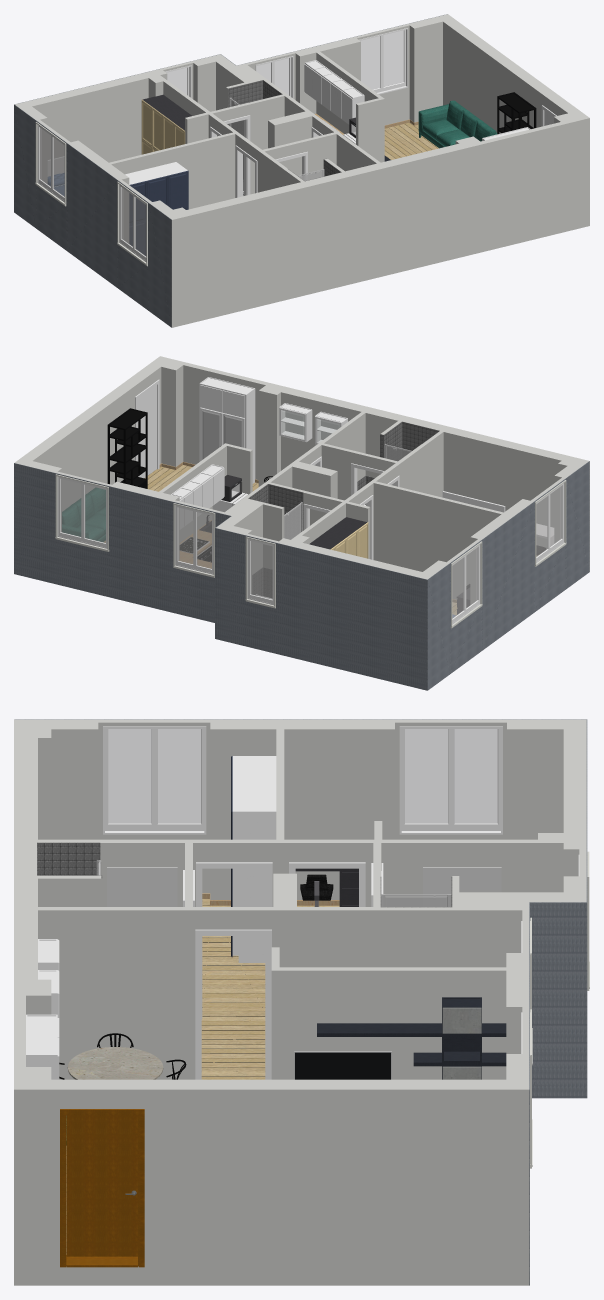
The model's file is room.glb.
The picture shows the model from 3 angles, top to bottom: view 1: azimuth 30°, elevation 25°; view 2: azimuth 150°, elevation 25°; view 3: azimuth 270°, elevation 25°; orthographic projection. The views are drawn at different scales.
Parts seen in each view (by area): view 1: Object_67, Object_68, Object_44, Object_73, Object_13, Object_61, Object_45, Object_62, Object_64, Object_18, Object_35, Object_46 (+3 smaller); view 2: Object_68, Object_67, Object_44, Object_73, Object_58, Object_35, Object_45, Object_46, Object_18, Object_13, Object_10, Object_60 (+8 smaller); view 3: Object_67, Object_44, Object_43, Object_68, Object_64, Object_73, Object_58, Object_45, Object_53, Object_55, Object_12, Object_25 (+6 smaller).
Boxes of the visible parts, left/top/right/bottom form: Object_67: left=15, top=14, right=589, bottom=327; Object_68: left=14, top=14, right=447, bottom=327; Object_44: left=40, top=30, right=403, bottom=256; Object_73: left=37, top=28, right=407, bottom=261; Object_13: left=418, top=100, right=497, bottom=148; Object_61: left=129, top=170, right=188, bottom=255; Object_45: left=210, top=105, right=556, bottom=197; Object_62: left=141, top=99, right=185, bottom=154; Object_64: left=384, top=122, right=438, bottom=159; Object_18: left=497, top=92, right=536, bottom=134; Object_35: left=217, top=80, right=341, bottom=181; Object_46: left=35, top=122, right=147, bottom=266; Object_68: left=14, top=461, right=589, bottom=690; Object_67: left=14, top=356, right=589, bottom=604; Object_44: left=60, top=479, right=561, bottom=618; Object_73: left=57, top=403, right=564, bottom=624; Object_58: left=199, top=377, right=255, bottom=483; Object_35: left=248, top=421, right=439, bottom=598; Object_45: left=135, top=379, right=399, bottom=559; Object_46: left=55, top=474, right=566, bottom=628; Object_18: left=107, top=408, right=147, bottom=488; Object_13: left=62, top=487, right=105, bottom=541; Object_10: left=202, top=410, right=242, bottom=459; Object_60: left=309, top=517, right=469, bottom=614; Object_67: left=14, top=719, right=586, bottom=1285; Object_44: left=108, top=729, right=497, bottom=823; Object_43: left=60, top=1109, right=144, bottom=1267; Object_68: left=15, top=719, right=587, bottom=1285; Object_64: left=66, top=899, right=339, bottom=1254; Object_73: left=38, top=726, right=579, bottom=1053; Object_58: left=26, top=756, right=276, bottom=1079; Object_45: left=183, top=862, right=383, bottom=1079; Object_53: left=107, top=867, right=501, bottom=906; Object_55: left=317, top=1023, right=506, bottom=1066; Object_12: left=67, top=1047, right=163, bottom=1079; Object_25: left=295, top=1052, right=390, bottom=1079.
Bounding box in the file's own units: 1108 × 272 × 724.
62 materials, 29 textured.
